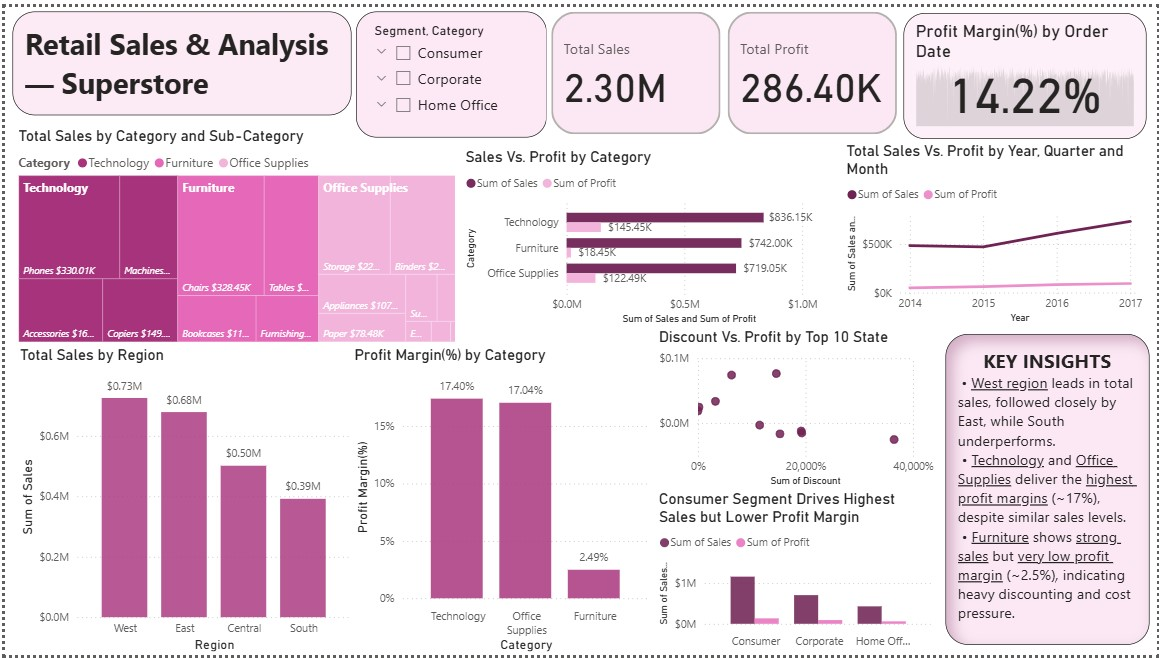

The dashboard page shown, as its layout file describes it:
{"tool":"powerbi","page":{"name":"Page 1","canvas":[1280,720],"ordinal":0},"visuals":[{"type":"treemap","title":"Total Sales by Category and Sub-Category","fields":{"Group":["Sample_ Superstore.Category"],"Values":["Sum(Sample_ Superstore.Sales)"],"Details":["Sample_ Superstore.Sub-Category"]},"box":[10,133.3,495,243.3],"z":0},{"type":"clusteredBarChart","title":"Sales Vs. Profit by Category","fields":{"Category":["Sample_ Superstore.Category"],"Y":["Sum(Sample_ Superstore.Sales)","Sum(Sample_ Superstore.Profit)"]},"box":[506,156,412,200],"z":1000},{"type":"columnChart","title":"Total Sales by Region","fields":{"Category":["Sample_ Superstore.Region"],"Y":["Sum(Sample_ Superstore.Sales)"]},"box":[12,376,378,344],"z":2000},{"type":"lineChart","title":"Total Sales Vs. Profit by Year, Quarter and Month","fields":{"Category":["Sample_ Superstore.Order Date.Variation.Date Hierarchy.Year","Sample_ Superstore.Order Date.Variation.Date Hierarchy.Quarter","Sample_ Superstore.Order Date.Variation.Date Hierarchy.Month","Sample_ Superstore.Order Date.Variation.Date Hierarchy.Day"],"Y":["Sum(Sample_ Superstore.Sales)","Sum(Sample_ Superstore.Profit)"]},"box":[930,150,338,206],"z":3000},{"type":"clusteredColumnChart","title":"Consumer Segment Drives Highest Sales but Lower Profit Margin","fields":{"Category":["Sample_ Superstore.Segment"],"Y":["Sum(Sample_ Superstore.Sales)","Sum(Sample_ Superstore.Profit)"]},"box":[721.7,536.7,315,183.3],"z":4000},{"type":"scatterChart","title":"Discount Vs. Profit by Top 10 State","fields":{"Category":["Sample_ Superstore.State"],"X":["Sum(Sample_ Superstore.Discount)"],"Y":["Sum(Sample_ Superstore.Profit)"]},"box":[721.7,356.7,315,180],"z":5000},{"type":"slicer","fields":{"Values":["Sample_ Superstore.Segment","Sample_ Superstore.Category"]},"box":[390,5,211.7,140],"z":6000},{"type":"textbox","box":[8.3,5,376.7,115],"z":7000},{"type":"kpi","fields":{"Indicator":["Sample_Superstore.Profit Margin %"],"TrendLine":["Sample_Superstore.Order Date"]},"box":[998,6,270,140],"z":8000},{"type":"cardVisual","fields":{"Data":["Sample_Superstore.Total Sales","Sample_Superstore.Total Profit"]},"box":[602,0,394,146],"z":9000},{"type":"clusteredColumnChart","fields":{"Y":["Sample_Superstore.Profit Margin(%)"],"Category":["Sample_Superstore.Category"]},"box":[384,376,338,344],"z":10000},{"type":"textbox","box":[1045,363.3,226.7,345],"z":11000}]}

Visuals, with their boxes in screenshot pixels (x1, y1, x2, y2), scaled from the page's 1280x720 canvas onto the 1162x658 screenshot:
"Total Sales by Category and Sub-Category" treemap: detection(9, 122, 458, 344)
"Sales Vs. Profit by Category" clusteredBarChart: detection(459, 143, 833, 325)
"Total Sales by Region" columnChart: detection(11, 344, 354, 657)
"Total Sales Vs. Profit by Year, Quarter and Month" lineChart: detection(844, 137, 1151, 325)
"Consumer Segment Drives Highest Sales but Lower Profit Margin" clusteredColumnChart: detection(655, 490, 941, 657)
"Discount Vs. Profit by Top 10 State" scatterChart: detection(655, 326, 941, 490)
slicer - Sample_ Superstore.Segment x Sample_ Superstore.Category: detection(354, 5, 546, 133)
textbox: detection(8, 5, 350, 110)
kpi - Sample_Superstore.Profit Margin % x Sample_Superstore.Order Date: detection(906, 5, 1151, 133)
cardVisual - Sample_Superstore.Total Sales x Sample_Superstore.Total Profit: detection(547, 0, 904, 133)
clusteredColumnChart - Sample_Superstore.Profit Margin(%) x Sample_Superstore.Category: detection(349, 344, 655, 657)
textbox: detection(949, 332, 1154, 647)
